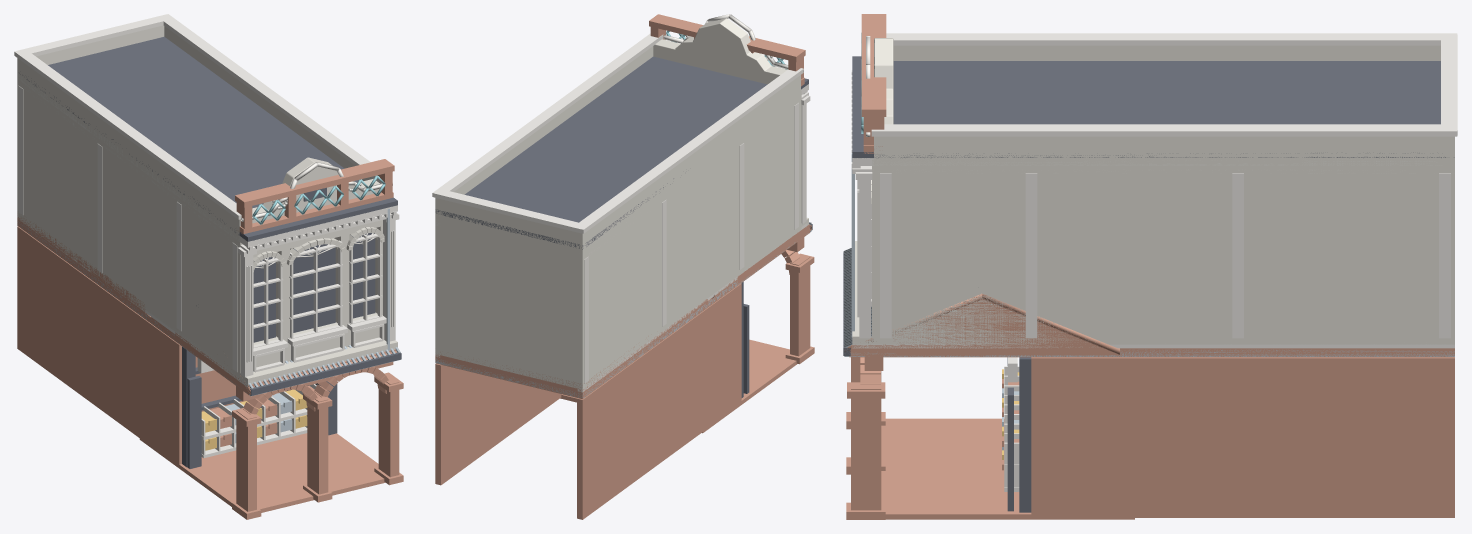
The model's file is dihua-zone2.glb.
3 views of the same model, side by side, from view 1: azimuth 30°, elevation 25°; view 2: azimuth 150°, elevation 25°; view 3: azimuth 270°, elevation 25° (orthographic). The views are drawn at different scales.
Visible parts, largest first — view 1: baroque, arcade, baroque_crest, yang_crest, min; view 2: baroque, baroque_crest, arcade, min, yang_crest; view 3: baroque, arcade, baroque_crest, min, yang_crest.
Boxes of the visible parts, bbox=[...] form: baroque: bbox=[17, 71, 399, 387]; arcade: bbox=[17, 220, 403, 519]; baroque_crest: bbox=[14, 14, 397, 241]; yang_crest: bbox=[235, 159, 394, 234]; min: bbox=[17, 213, 401, 396]; baroque: bbox=[435, 84, 810, 392]; baroque_crest: bbox=[432, 14, 808, 249]; arcade: bbox=[435, 224, 814, 519]; min: bbox=[435, 222, 812, 397]; yang_crest: bbox=[649, 14, 805, 86]; baroque: bbox=[851, 70, 1454, 348]; arcade: bbox=[846, 345, 1454, 519]; baroque_crest: bbox=[852, 33, 1457, 157]; min: bbox=[843, 248, 1454, 356]; yang_crest: bbox=[861, 14, 886, 153].
Size of the model in its own units: 4.81 by 9.76 by 12.48.
